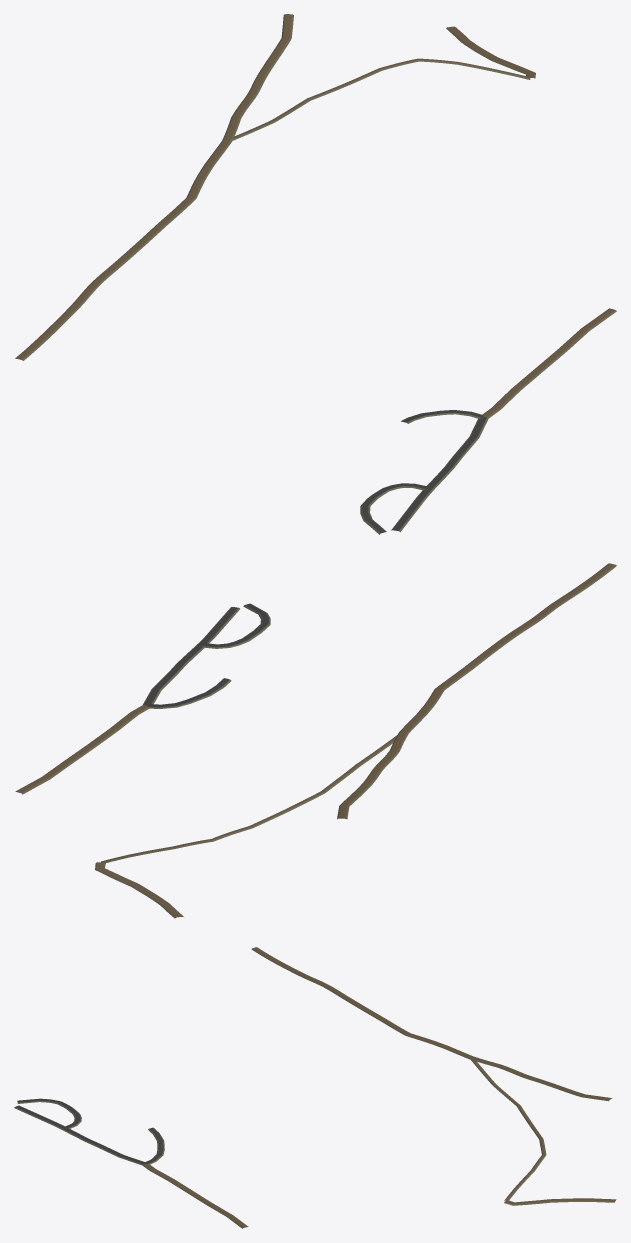
The picture shows the model from 3 angles, top to bottom: view 1: azimuth 30°, elevation 25°; view 2: azimuth 210°, elevation 25°; view 3: azimuth 270°, elevation 25°; orthographic projection. The views are drawn at different scales.
Parts seen in each view (by area): view 1: roads; view 2: roads; view 3: roads.
Boxes of the visible parts, x1,y1,x2,y2 form: roads: (15, 14, 616, 534); roads: (15, 563, 616, 918); roads: (14, 947, 616, 1228).
Bounding box in the file's own units: 402 × 85.07 × 407.
